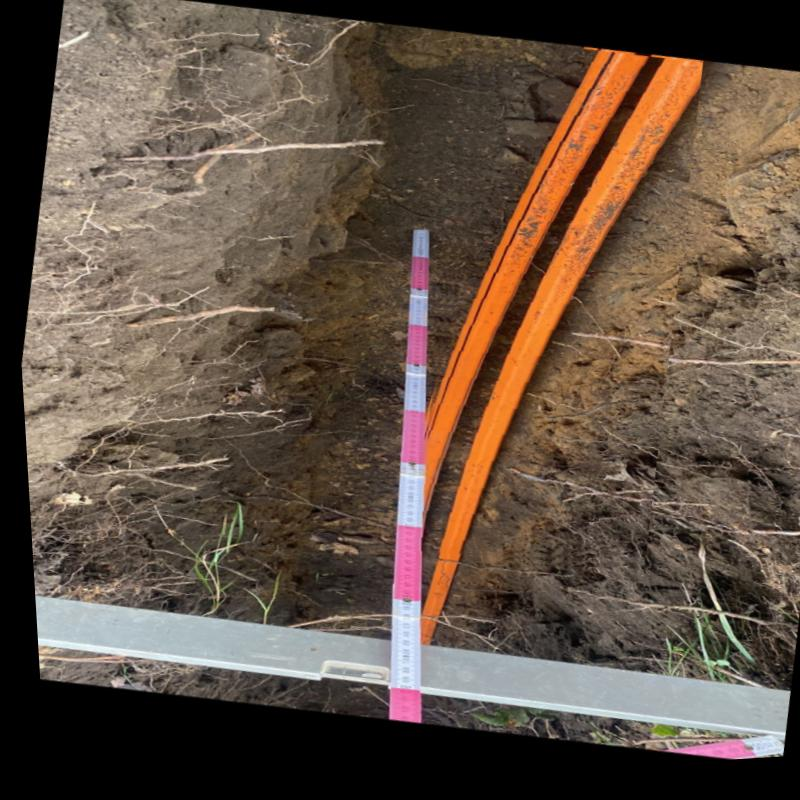Orang-Speednetrohrchen: (422, 58, 702, 560)
